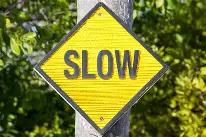Slow: (36, 4, 164, 127)
